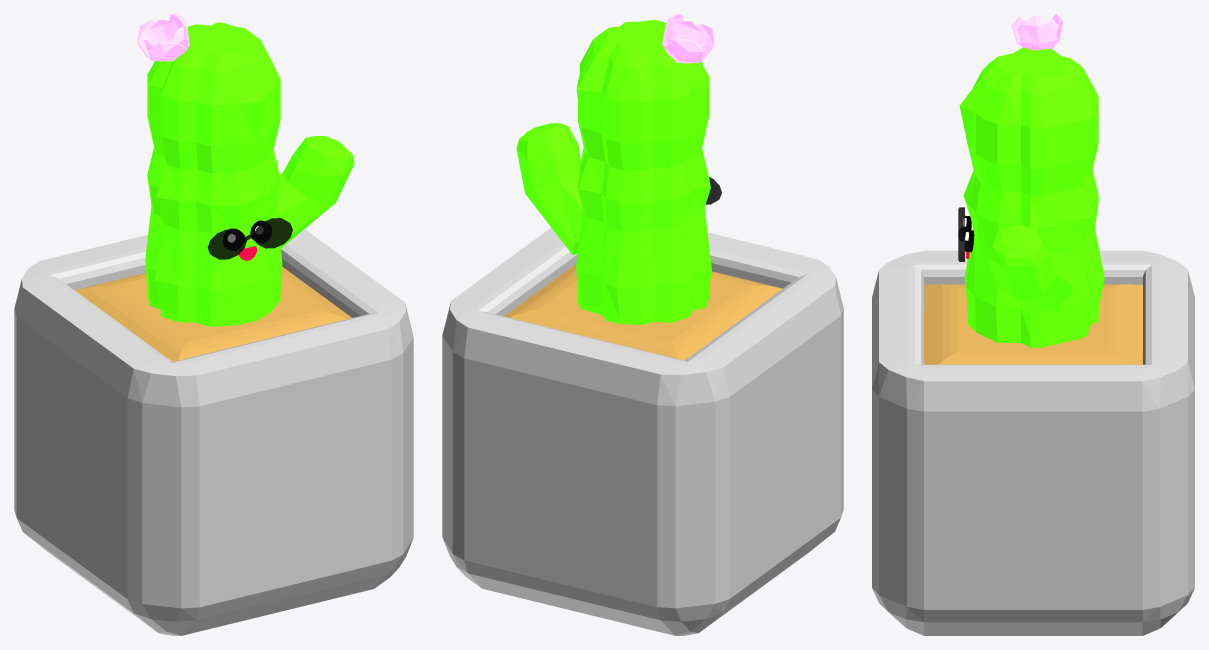
Rendered from STR_3D_cactus_3.dae.
The picture shows the model from 3 angles, left to right: view 1: azimuth 30°, elevation 25°; view 2: azimuth 150°, elevation 25°; view 3: azimuth 270°, elevation 25°; orthographic projection.
Visible parts, largest first — view 1: pot.002, Cylinder, soil.002, Cylinder.001, freesia_flower.004, Cylinder.005, Cylinder.004; view 2: pot.002, Cylinder, soil.002, Cylinder.001, freesia_flower.004; view 3: pot.002, Cylinder, soil.002, Cylinder.001, freesia_flower.004.
Boxes of the visible parts, <box> form: pot.002: <box>14,229,413,635</box>; Cylinder: <box>145,22,282,326</box>; soil.002: <box>75,267,351,361</box>; Cylinder.001: <box>276,136,354,248</box>; freesia_flower.004: <box>137,14,189,61</box>; Cylinder.005: <box>207,218,292,259</box>; Cylinder.004: <box>223,220,271,260</box>; pot.002: <box>442,227,843,635</box>; Cylinder: <box>576,20,711,324</box>; soil.002: <box>504,263,782,360</box>; Cylinder.001: <box>516,123,582,254</box>; freesia_flower.004: <box>662,14,714,63</box>; pot.002: <box>872,250,1194,635</box>; Cylinder: <box>959,47,1104,347</box>; soil.002: <box>924,284,1142,364</box>; Cylinder.001: <box>988,224,1074,313</box>; freesia_flower.004: <box>1011,14,1064,50</box>.
Bounding box in the file's own units: 2 × 2 × 3.81.
